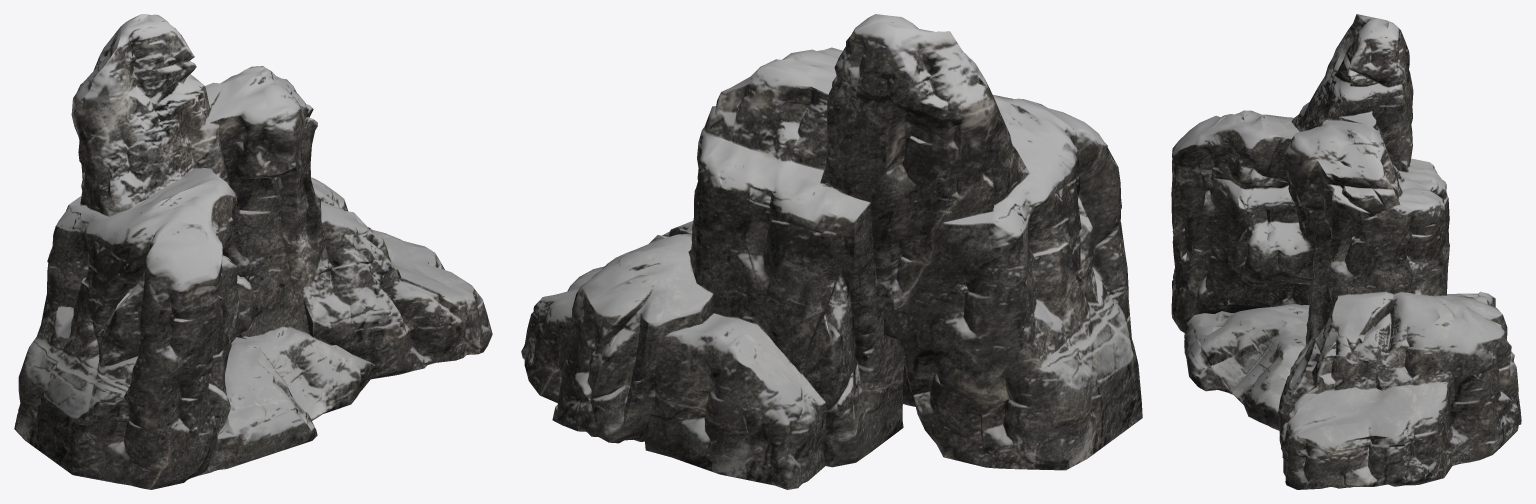
3 views of the same model, side by side, from view 1: azimuth 30°, elevation 25°; view 2: azimuth 150°, elevation 25°; view 3: azimuth 270°, elevation 25° (orthographic). The views are drawn at different scales.
Parts seen in each view (by area): view 1: Object_2; view 2: Object_2; view 3: Object_2.
Part boxes in pixels (<box>): Object_2: <box>14,14,492,489</box>; Object_2: <box>521,14,1142,489</box>; Object_2: <box>1171,14,1521,489</box>.
Size of the model in its own units: 2.85 by 2.21 by 2.08.
Materials: 1 (1 with a texture image).
